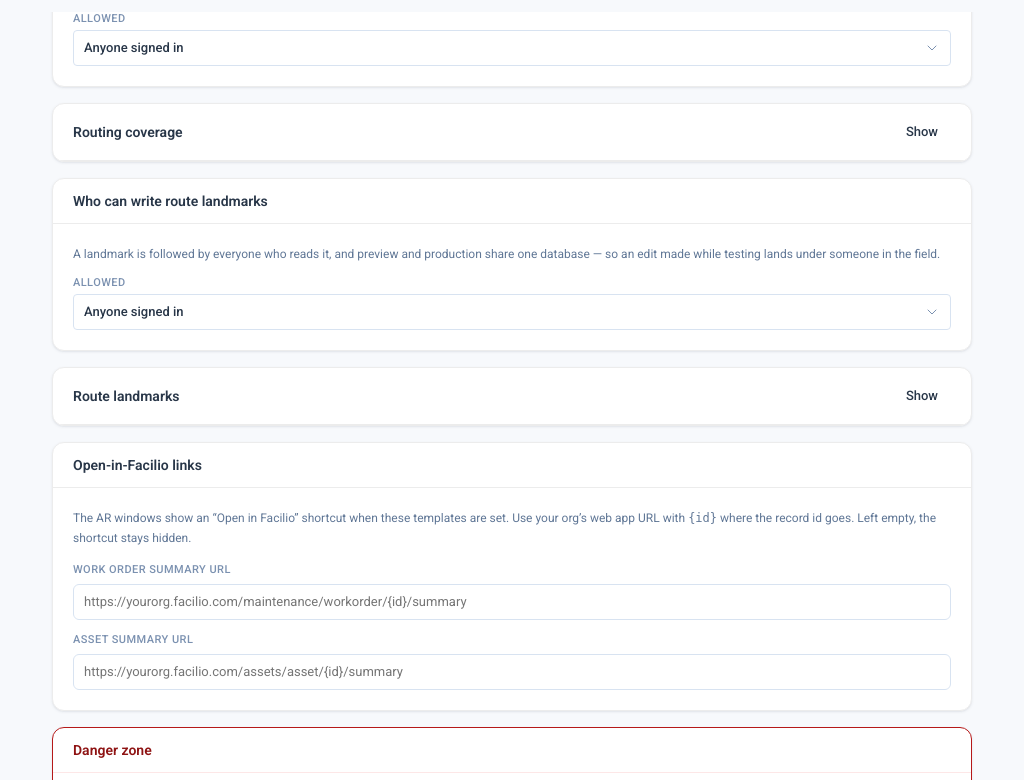
Test case: Settings — route landmarks › lists every site’s landmarks in one read
(page scrolled)
Click the 2nd button "Show". click: [922, 396]
box: [893,380,951,412]
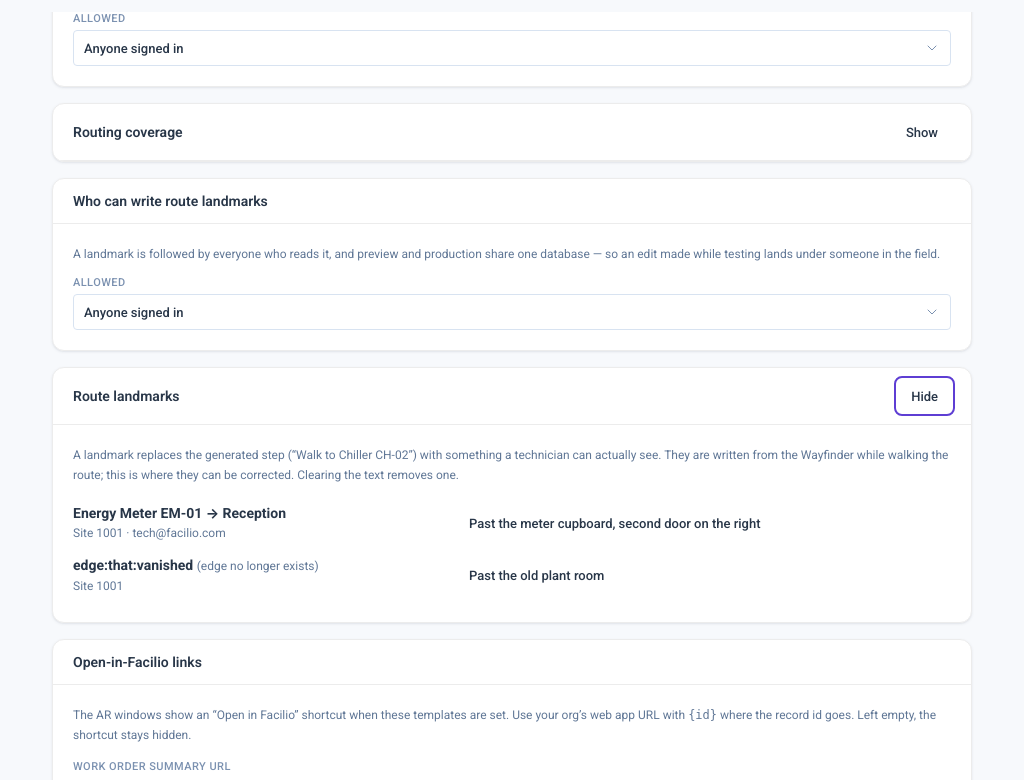
Now the button "Past the meter cupboard, second door on the right" is shown, box [456,507,774,539]
Now the button "Past the old plant room" is shown, box [456,560,617,592]
